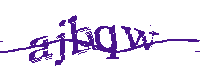a: (29, 36, 53, 62)
b: (68, 16, 94, 56)
j: (55, 18, 68, 68)
q: (93, 22, 123, 63)
w: (122, 25, 160, 53)
